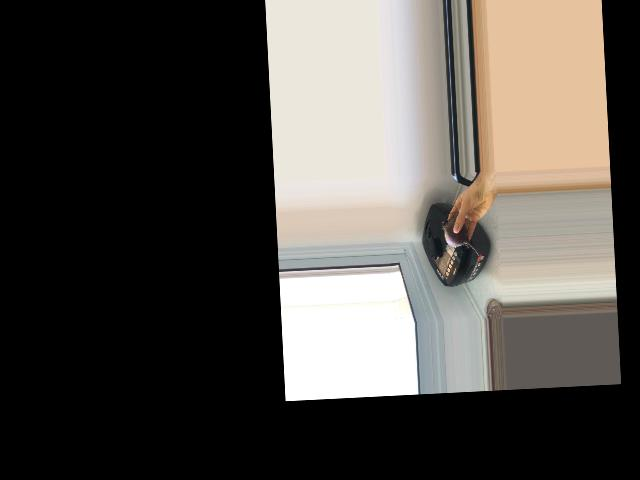beet: (441, 211, 479, 258)
